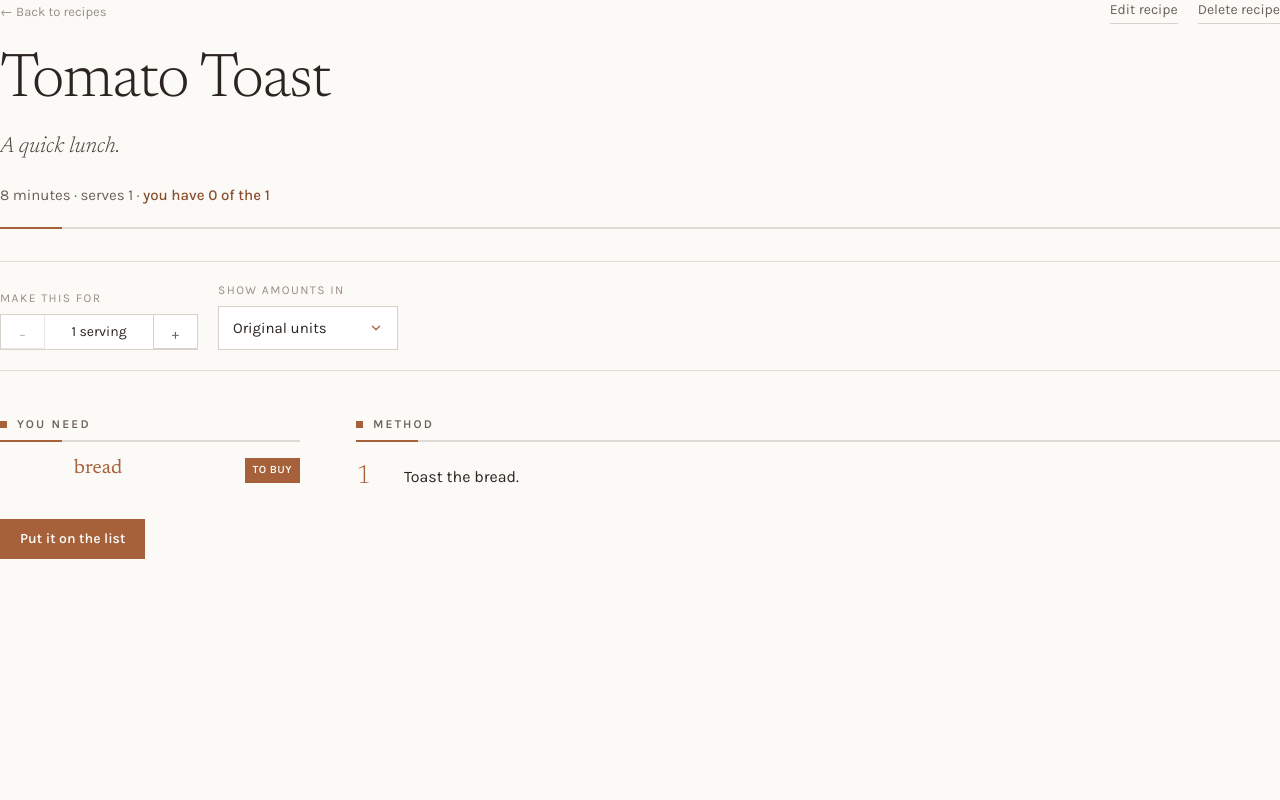
RecipeDetailPage › does not delete a saved recipe that changes while approval is open
Step 1. Click the button "Delete recipe" → (1239, 12), box [1198,0,1279,24]
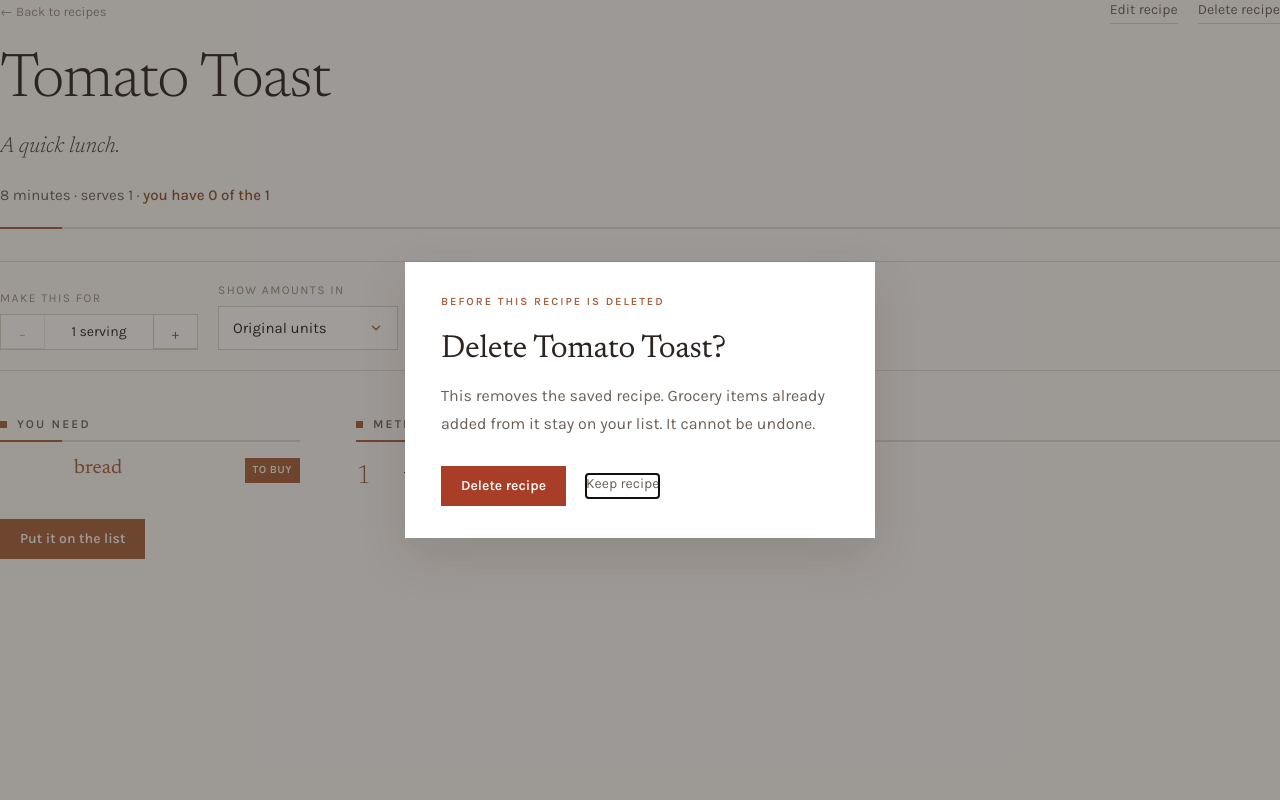
Step 2. Click the button "Delete recipe" → (504, 486), box [441,466,566,506]
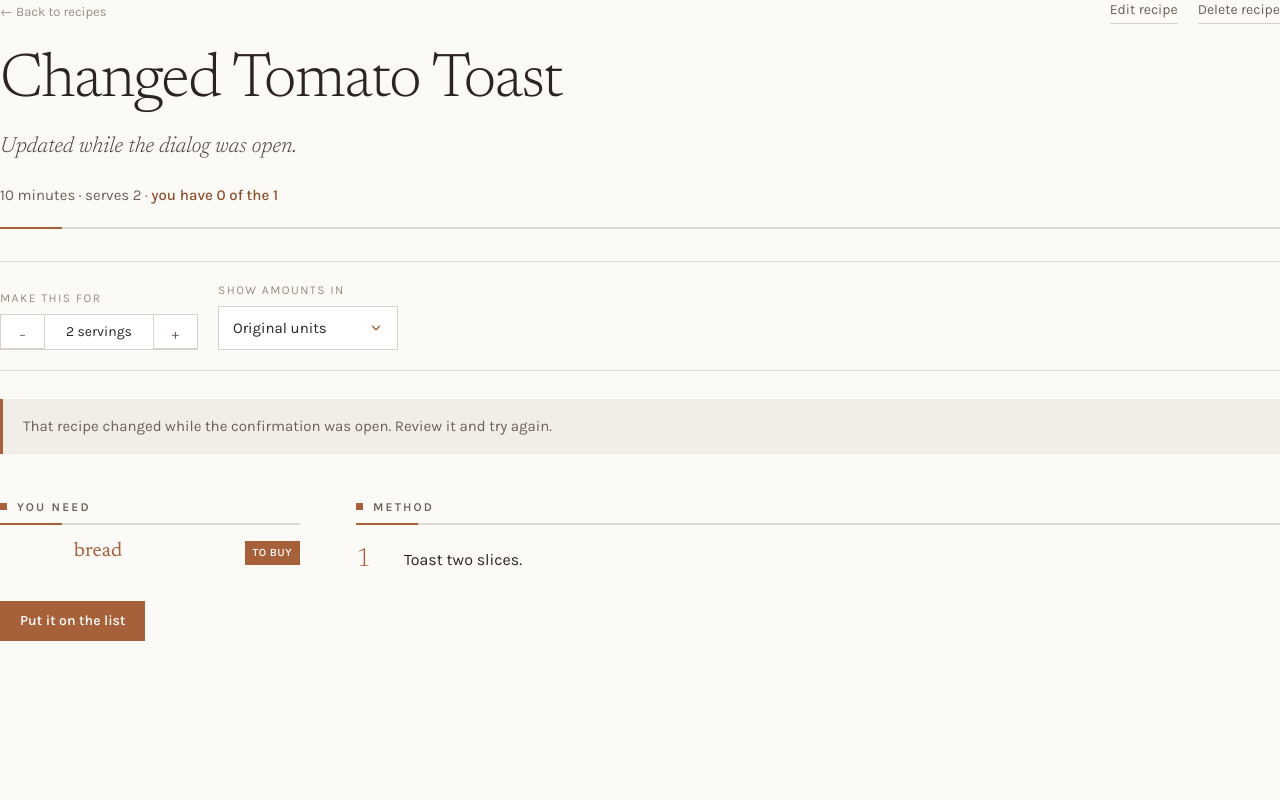
Expected: the text "changed while the confirmation was open" is shown, [23,417,552,435]
